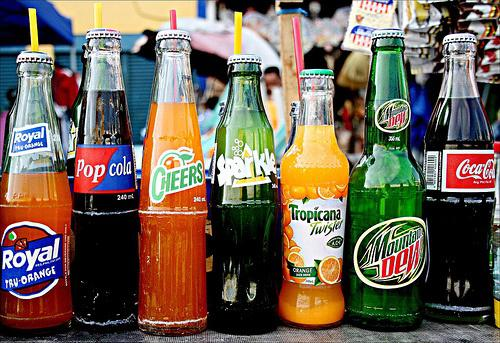Cocacola: (447, 149, 494, 185)
